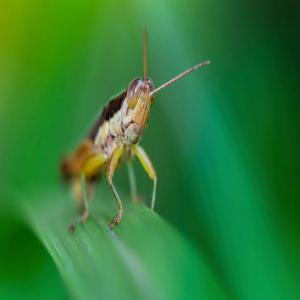locust: (60, 27, 206, 245)
